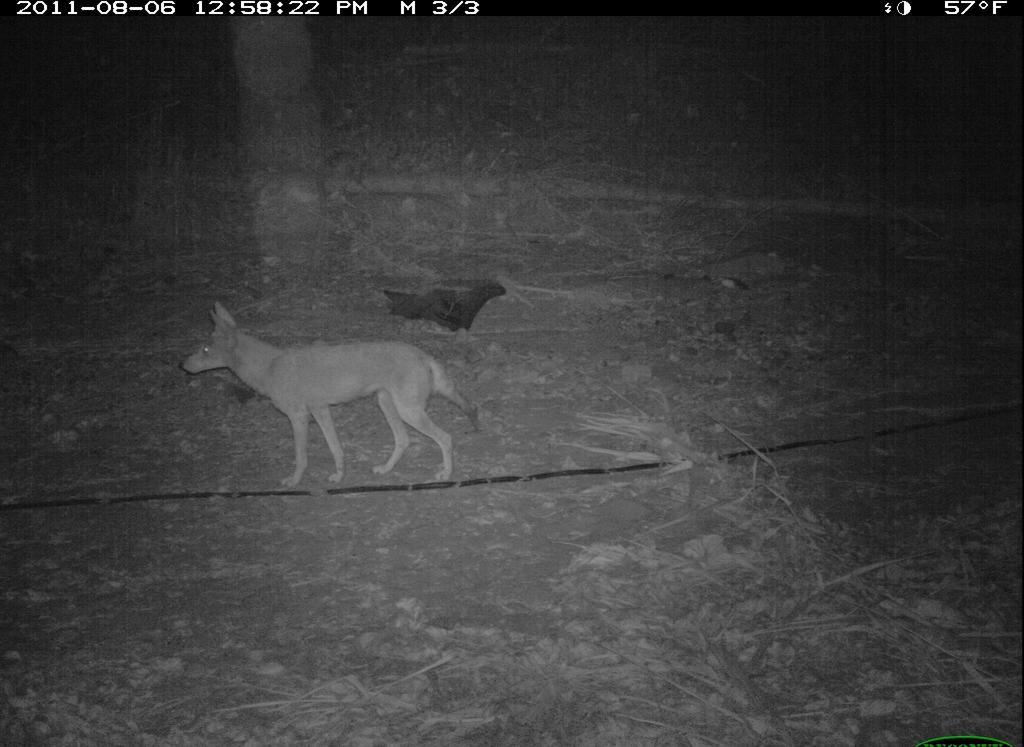coyote: (177, 299, 488, 493)
